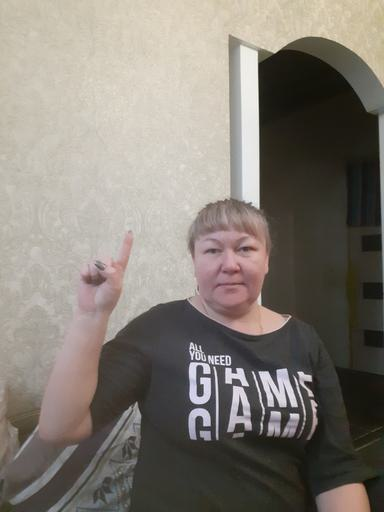one: (76, 226, 137, 315)
